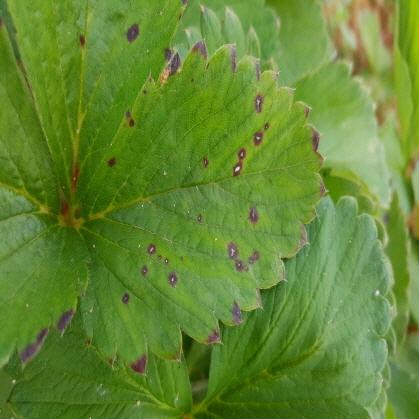Leaf Spot: (71, 37, 328, 376), (4, 0, 189, 212)
